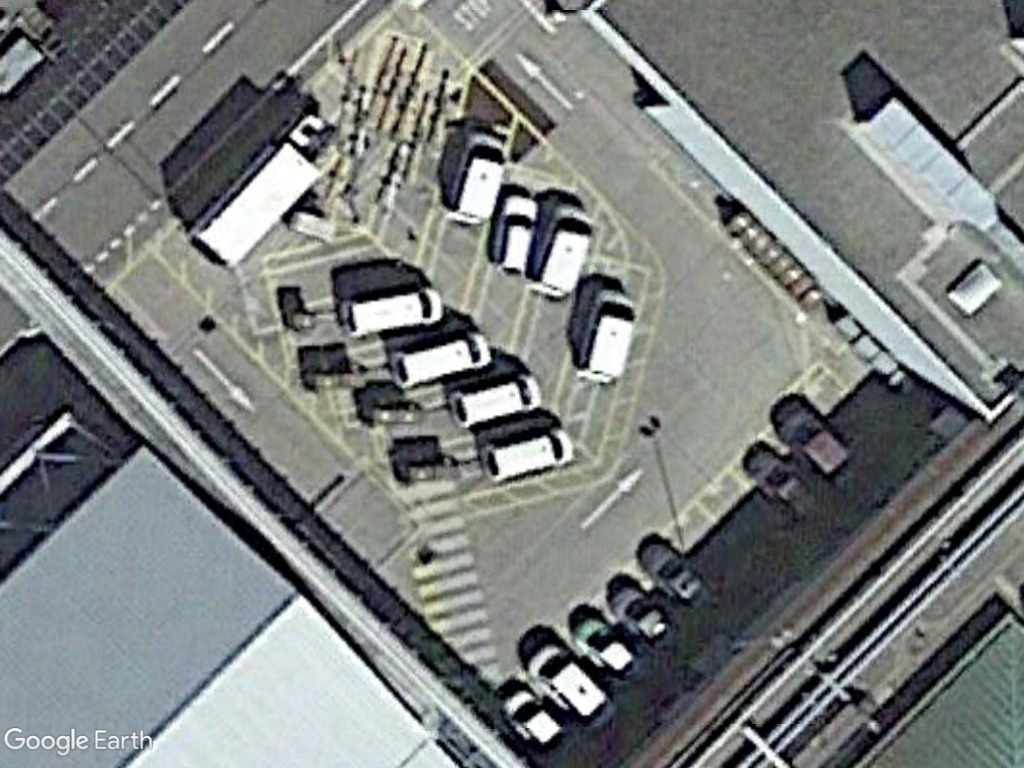truck: (191, 109, 346, 274)
van: (524, 639, 613, 736), (528, 200, 596, 300), (386, 328, 494, 390), (442, 128, 507, 228), (338, 282, 444, 340), (575, 288, 637, 387), (447, 369, 546, 430), (479, 423, 575, 485), (567, 611, 646, 686), (497, 682, 571, 760), (492, 190, 543, 277)
